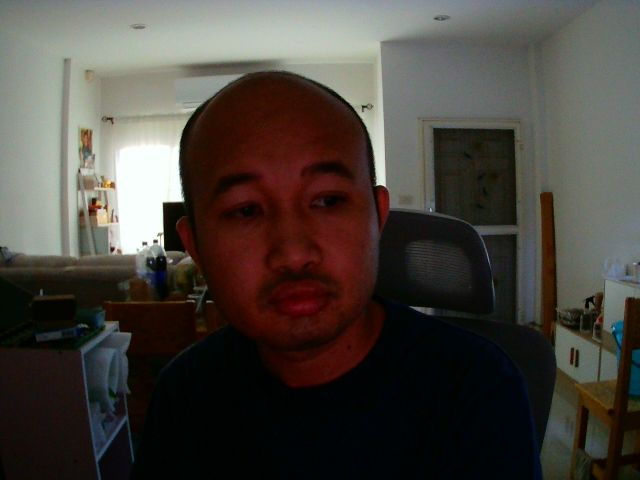face: (169, 60, 386, 356)
